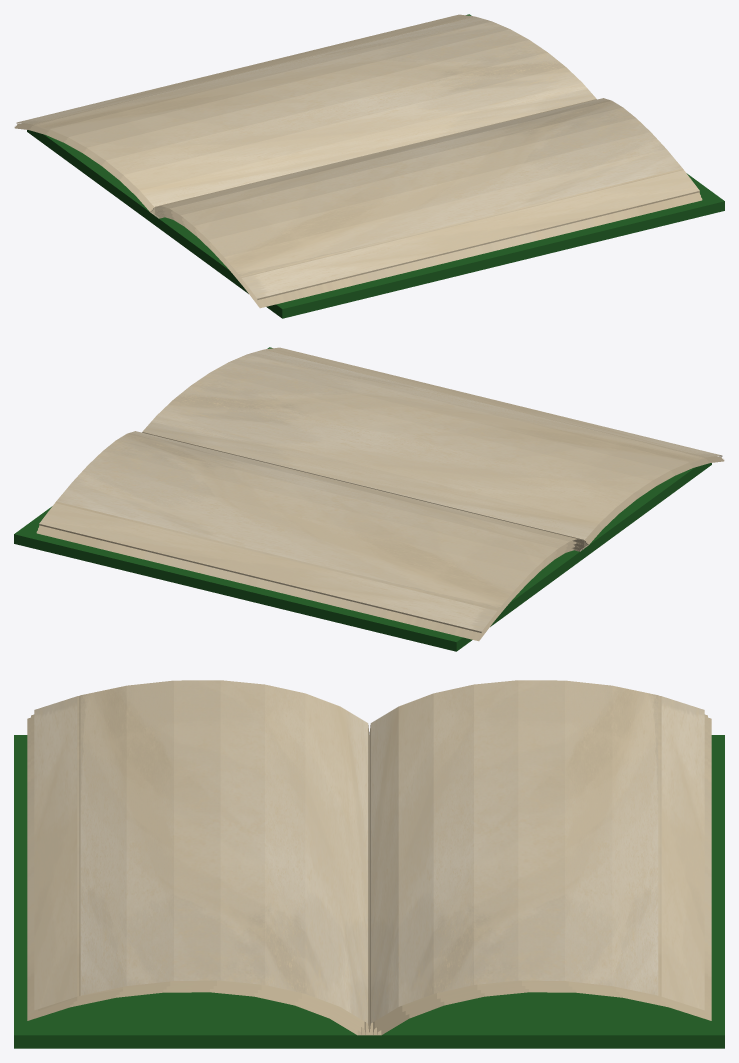
The model's file is livre.glb.
3 renders of one model, top to bottom at view 1: azimuth 30°, elevation 25°; view 2: azimuth 150°, elevation 25°; view 3: azimuth 270°, elevation 25°, orthographic. The views are drawn at different scales.
Parts seen in each view (by area): view 1: Cube; view 2: Cube; view 3: Cube.
Part boxes in pixels (x1,y1,x2,y2): Cube: (14, 14, 724, 318); Cube: (14, 347, 724, 651); Cube: (14, 680, 724, 1048).
Size of the model in its own units: 2.08 by 0.181 by 2.
Materials: 2 (1 with a texture image).
